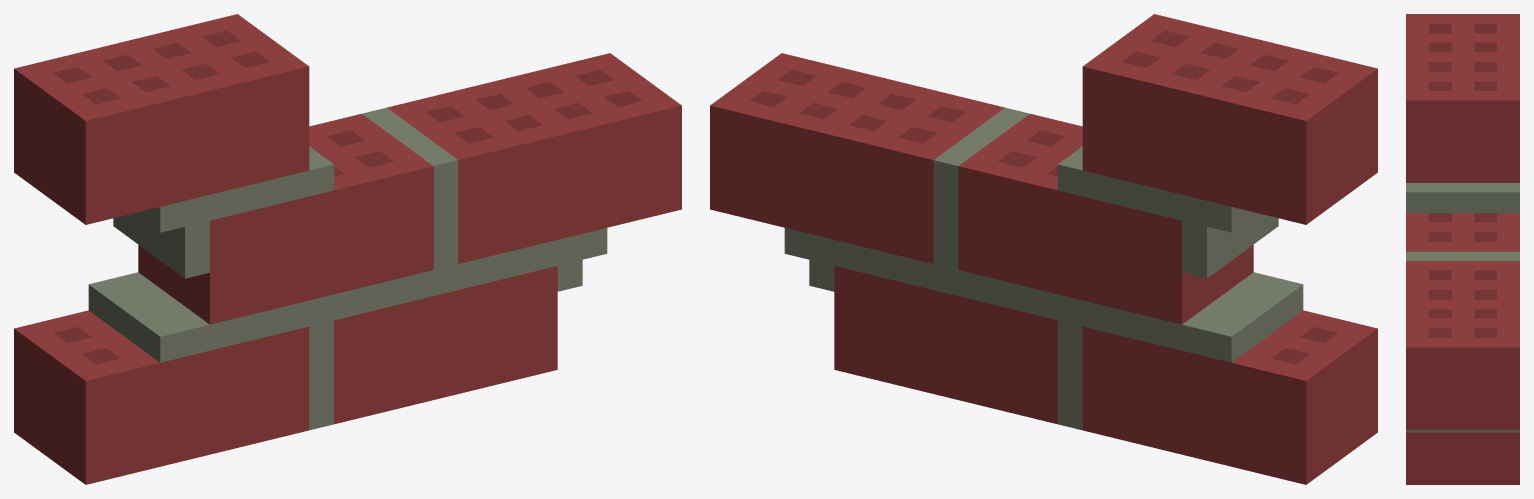
The model's file is brick_wall.obj.
3 renders of one model, left to right at view 1: azimuth 30°, elevation 25°; view 2: azimuth 150°, elevation 25°; view 3: azimuth 270°, elevation 25°, orthographic. The views are drawn at different scales.
Size of the model in its own units: 2.4 by 1.4 by 0.5.
1 material, 1 textured.
